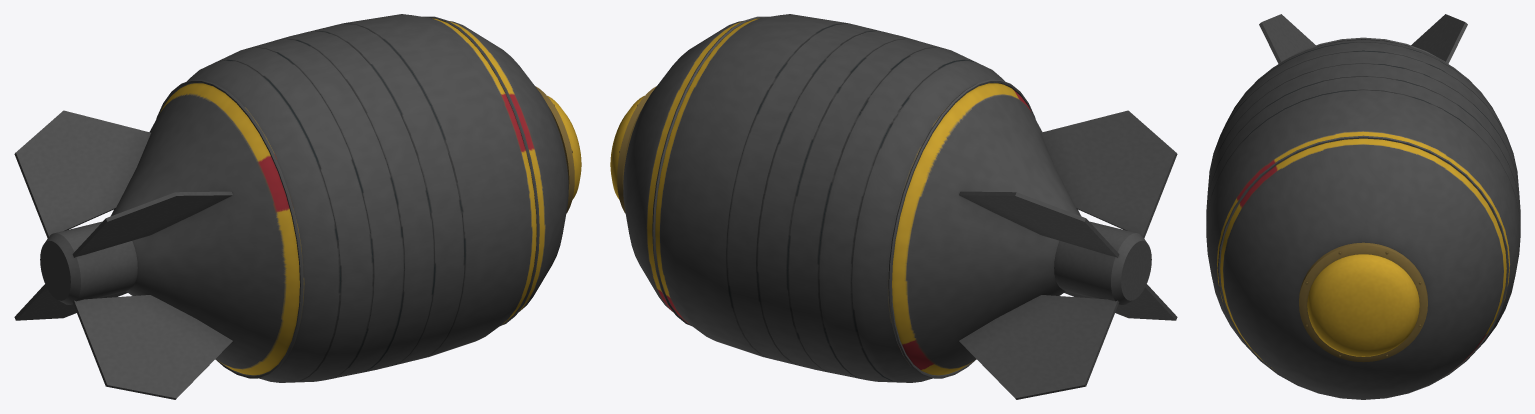
The model's file is bomb.obj.
3 renders of one model, left to right at view 1: azimuth 30°, elevation 25°; view 2: azimuth 150°, elevation 25°; view 3: azimuth 270°, elevation 25°, orthographic. The views are drawn at different scales.
Parts seen in each view (by area): view 1: bomb_MaterialGroup_03, bomb_MaterialGroup_02.002, bomb_MaterialGroup_02.004, bomb_MaterialGroup_02, bomb_MaterialGroup_02.003, Curved_casing_band, bomb_MaterialGroup_02.001, Curved_casing_band.001, bomb_MaterialGroup_01, bomb_MaterialGroup_00; view 2: bomb_MaterialGroup_03, bomb_MaterialGroup_02.001, bomb_MaterialGroup_02.003, bomb_MaterialGroup_02, bomb_MaterialGroup_02.004, Curved_casing_band, bomb_MaterialGroup_02.002, Curved_casing_band.001, bomb_MaterialGroup_01, bomb_MaterialGroup_00; view 3: bomb_MaterialGroup_03, bomb_MaterialGroup_00, bomb_MaterialGroup_01, Curved_casing_band.001, bomb_MaterialGroup_02.004, bomb_MaterialGroup_02.003, Curved_casing_band.
Boxes of the visible parts, x1=… form: bomb_MaterialGroup_03: x1=110, y1=14, x2=568, y2=382; bomb_MaterialGroup_02.002: x1=72, y1=295, x2=232, y2=399; bomb_MaterialGroup_02.004: x1=14, y1=110, x2=150, y2=238; bomb_MaterialGroup_02: x1=40, y1=221, x2=137, y2=304; bomb_MaterialGroup_02.003: x1=72, y1=191, x2=232, y2=257; Curved_casing_band: x1=156, y1=79, x2=303, y2=378; bomb_MaterialGroup_02.001: x1=14, y1=284, x2=127, y2=320; Curved_casing_band.001: x1=423, y1=16, x2=539, y2=325; bomb_MaterialGroup_01: x1=535, y1=86, x2=574, y2=213; bomb_MaterialGroup_00: x1=547, y1=95, x2=581, y2=199; bomb_MaterialGroup_03: x1=623, y1=14, x2=1081, y2=382; bomb_MaterialGroup_02.001: x1=959, y1=295, x2=1119, y2=399; bomb_MaterialGroup_02.003: x1=1041, y1=110, x2=1177, y2=238; bomb_MaterialGroup_02: x1=1054, y1=221, x2=1151, y2=304; bomb_MaterialGroup_02.004: x1=959, y1=191, x2=1119, y2=257; Curved_casing_band: x1=888, y1=79, x2=1035, y2=378; bomb_MaterialGroup_02.002: x1=1064, y1=284, x2=1177, y2=320; Curved_casing_band.001: x1=652, y1=16, x2=768, y2=325; bomb_MaterialGroup_01: x1=617, y1=86, x2=656, y2=213; bomb_MaterialGroup_00: x1=610, y1=95, x2=644, y2=199; bomb_MaterialGroup_03: x1=1206, y1=39, x2=1520, y2=399; bomb_MaterialGroup_00: x1=1307, y1=254, x2=1419, y2=356; bomb_MaterialGroup_01: x1=1299, y1=242, x2=1427, y2=362; Curved_casing_band.001: x1=1217, y1=135, x2=1509, y2=399; bomb_MaterialGroup_02.004: x1=1411, y1=14, x2=1467, y2=63; bomb_MaterialGroup_02.003: x1=1259, y1=14, x2=1315, y2=63; Curved_casing_band: x1=1279, y1=37, x2=1447, y2=63.
Bounding box in the file's own units: 2.87 × 1.68 × 1.68.
1 material, 1 textured.
